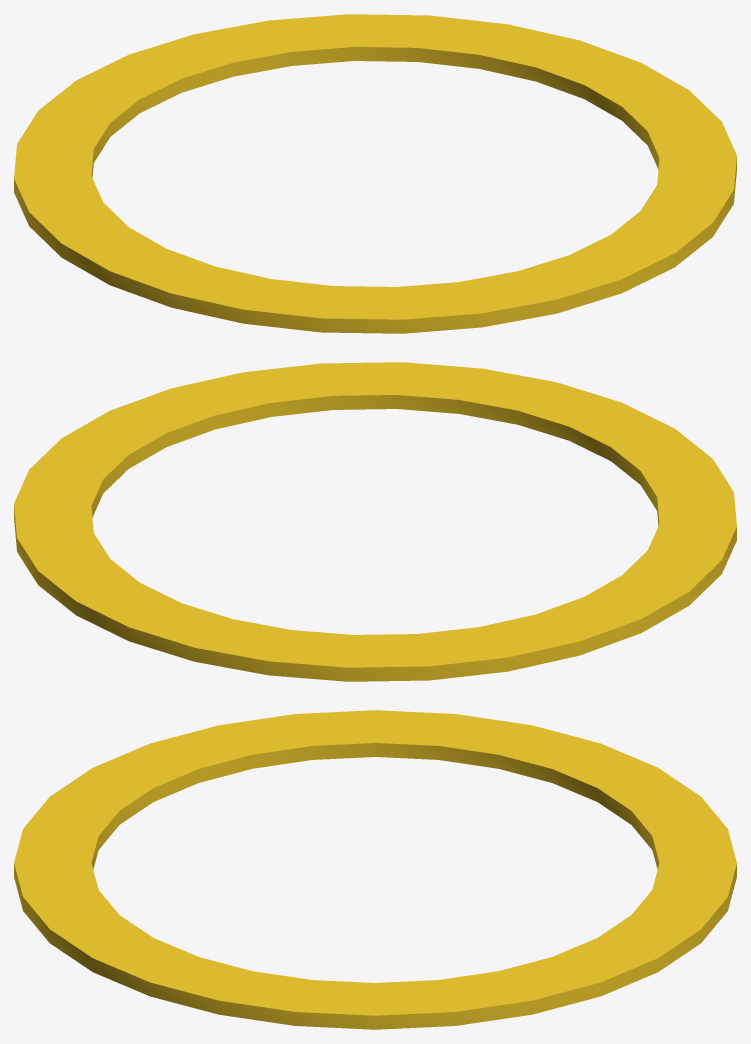
Rendered from env_base_circle_decal.obj.
3 views of the same model, one above another, from view 1: azimuth 30°, elevation 25°; view 2: azimuth 150°, elevation 25°; view 3: azimuth 270°, elevation 25° (orthographic).
Visible parts, largest first — view 1: BaseCircleDecal; view 2: BaseCircleDecal; view 3: BaseCircleDecal.
Boxes of the visible parts, x1,y1,x2,y2 form: BaseCircleDecal: (14,14,736,333); BaseCircleDecal: (14,362,736,681); BaseCircleDecal: (14,710,736,1029).
Bounding box in the file's own units: 1.4 × 0.03 × 1.4.
